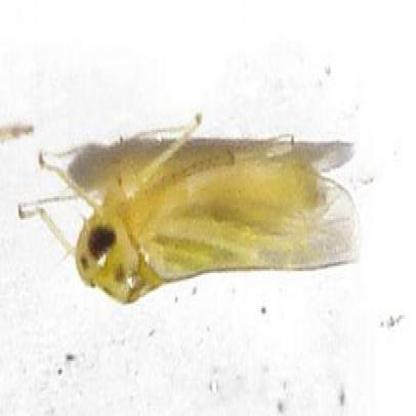green-leafhopper: (63, 128, 359, 292)
